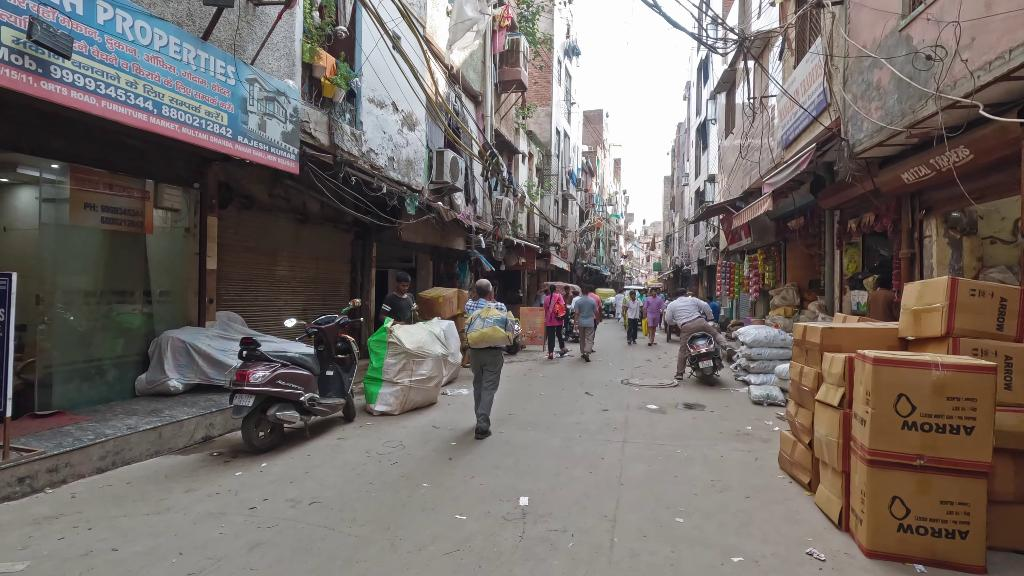garbage: (445, 387, 471, 396), (519, 496, 529, 507), (618, 316, 625, 323)
